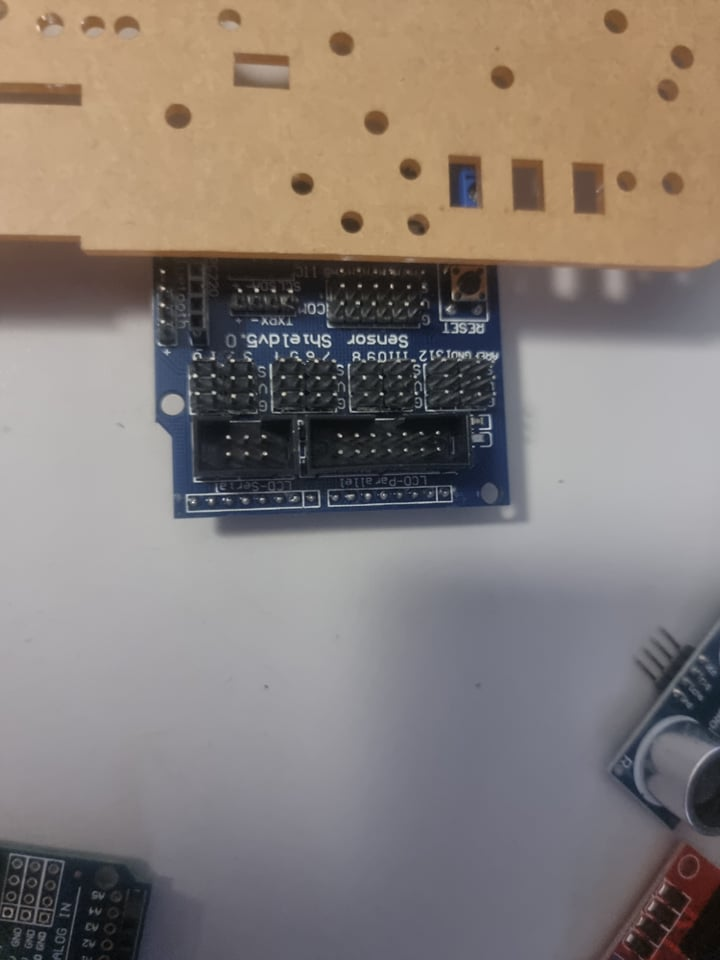5V EXPANSION: (140, 262, 517, 516)
SENSOR: (611, 607, 720, 838)
